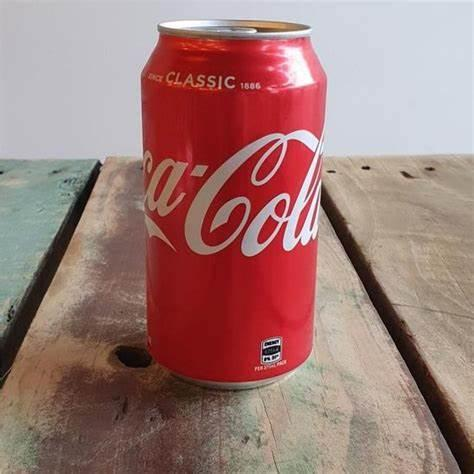metal: (141, 20, 327, 389)
